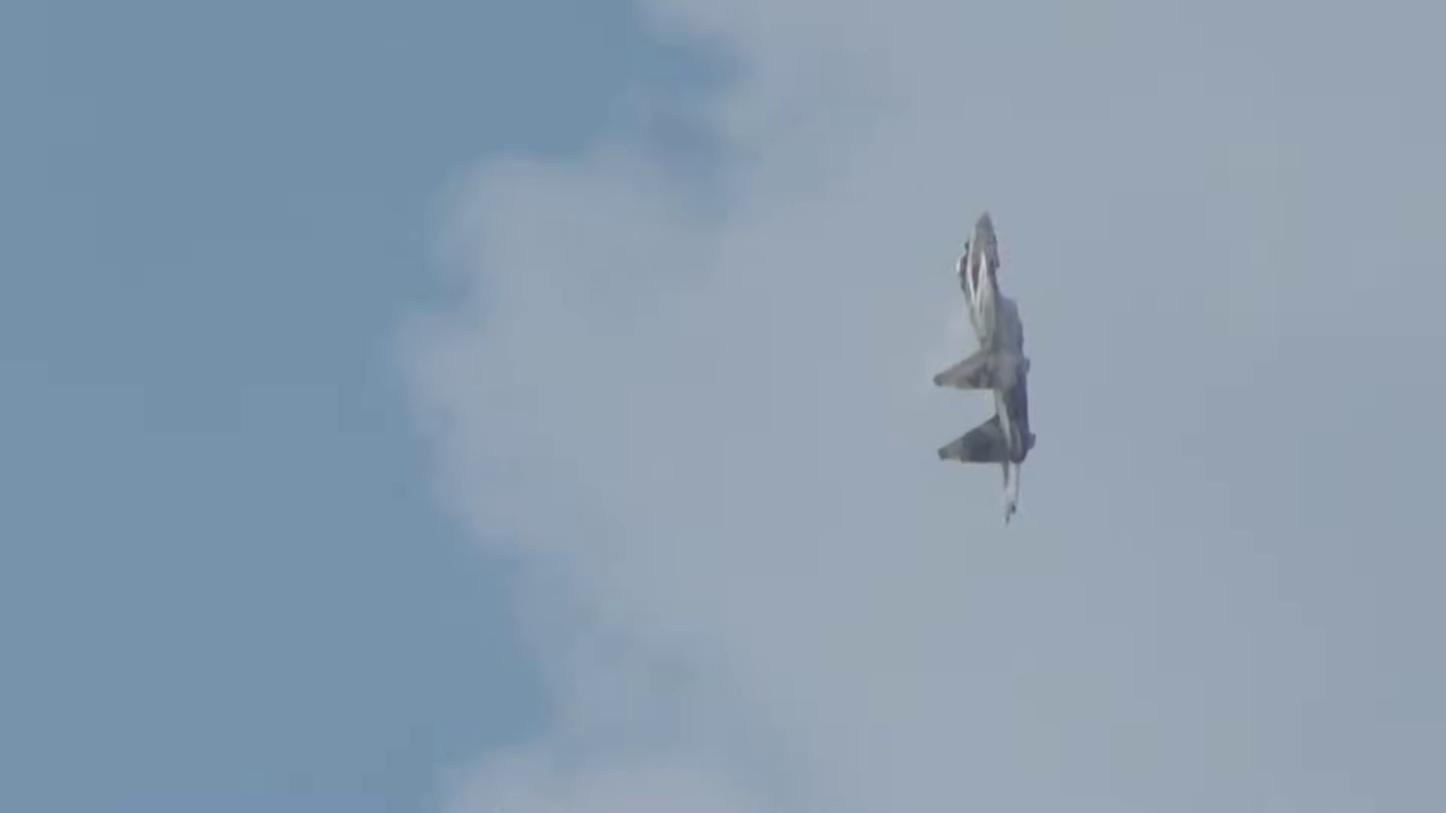Su35: (921, 194, 1058, 532)
